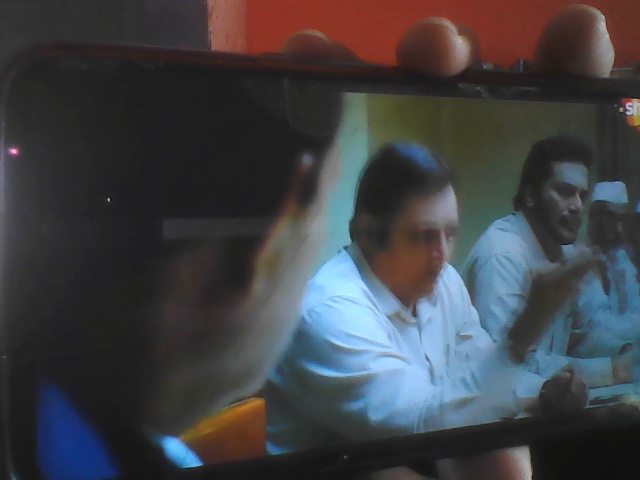fake: (357, 148, 473, 312)
